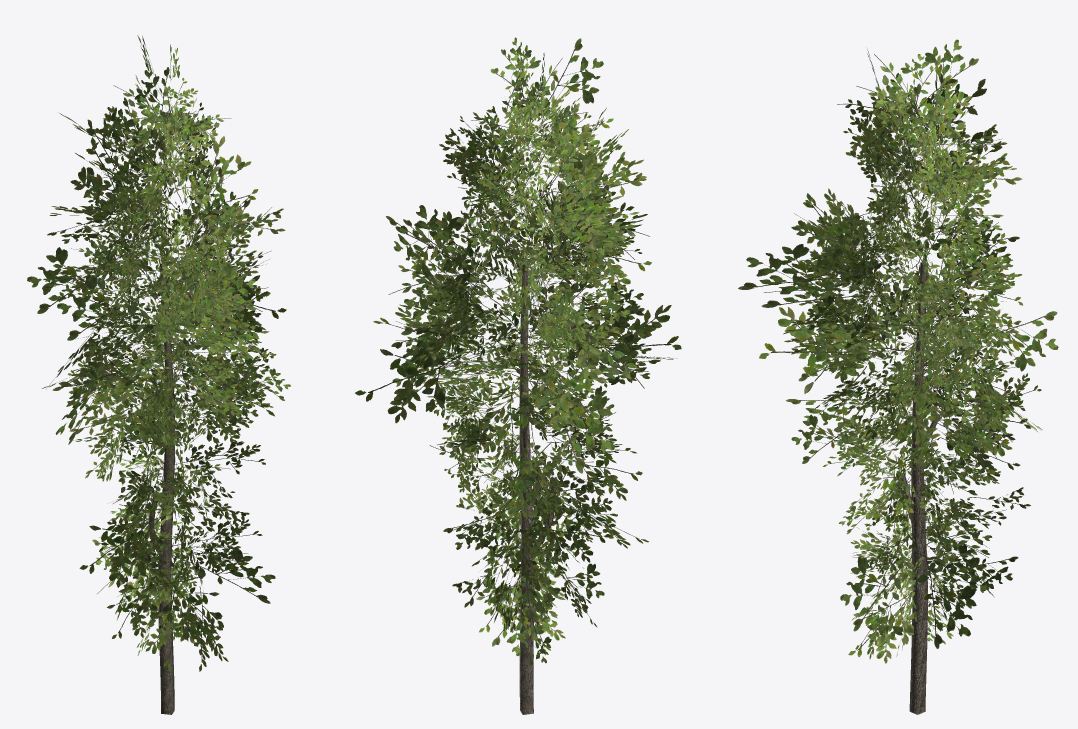
Rendered from tree_poplar_v1_l1.glb.
The picture shows the model from 3 angles, left to right: view 1: azimuth 30°, elevation 25°; view 2: azimuth 150°, elevation 25°; view 3: azimuth 270°, elevation 25°; orthographic projection.
Visible parts, largest first — view 1: tree_poplar_v1_l1; view 2: tree_poplar_v1_l1; view 3: tree_poplar_v1_l1.
Part boxes in pixels (box(x1,y1,x2,y2)): tree_poplar_v1_l1: box(27, 35, 290, 714); tree_poplar_v1_l1: box(355, 37, 681, 714); tree_poplar_v1_l1: box(738, 39, 1058, 714).
Bounding box in the file's own units: 6.25 × 14.25 × 6.32.
2 materials, 2 textured.
